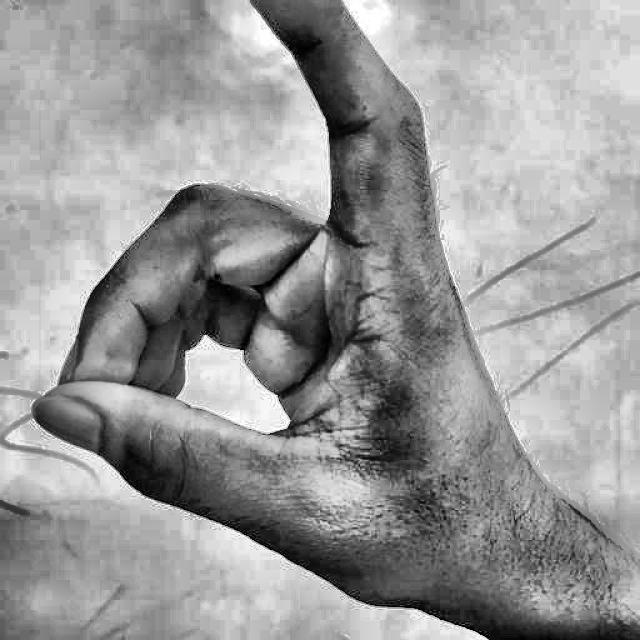Dha: (4, 3, 587, 640)
